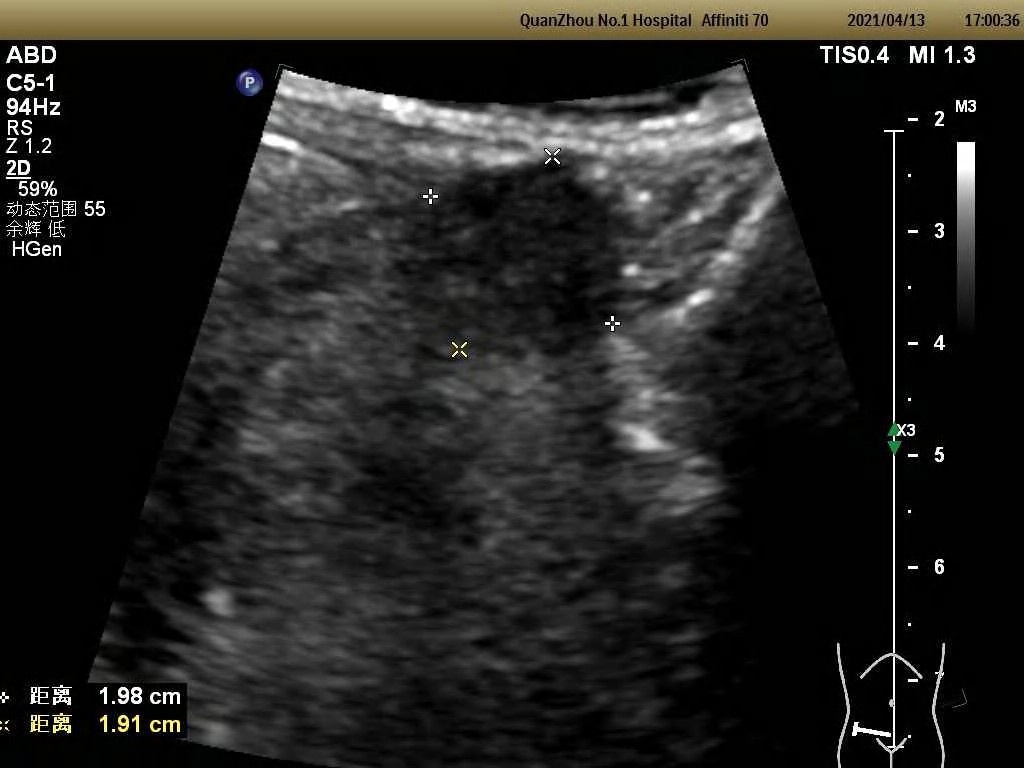肌瘤: (436, 176, 615, 348)
